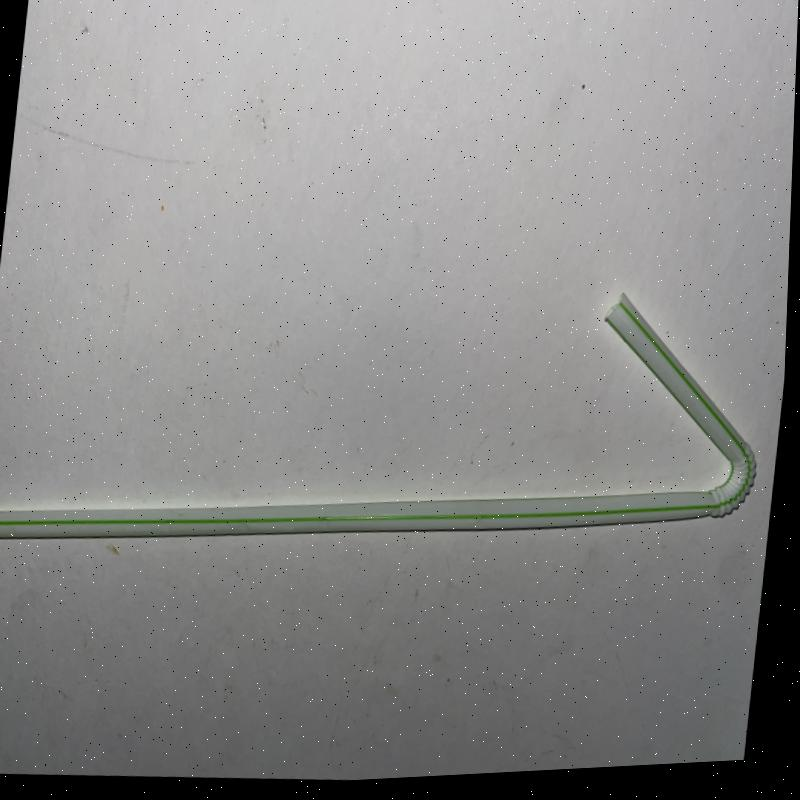plastic straw: (0, 295, 758, 540)
